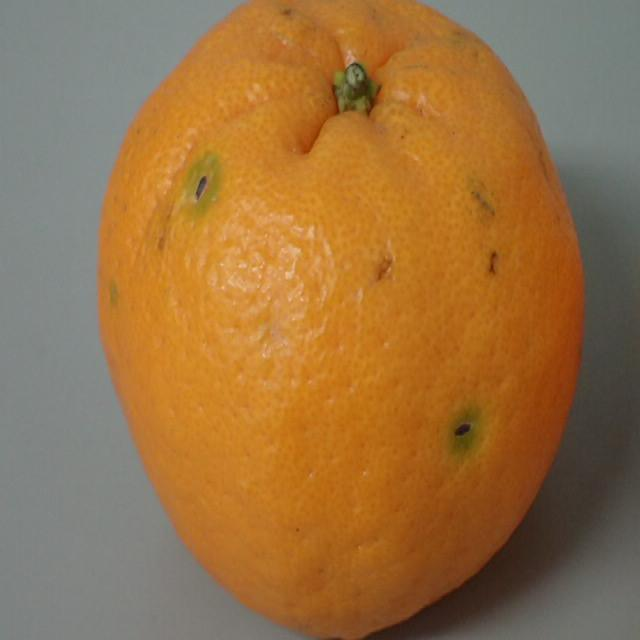Orange: (92, 3, 590, 640)
